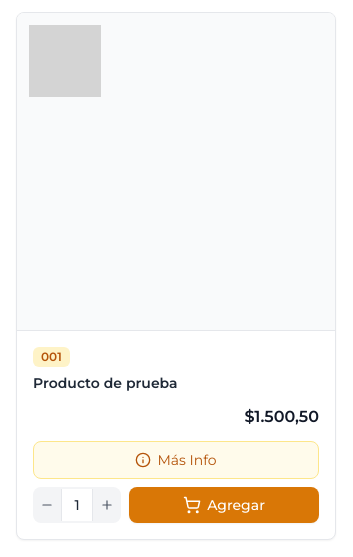
ProductCard › selector de cantidad › debería decrementar cantidad al hacer clic en -
// Primero incrementar a 2
Step 1. Click the button named "Aumentar cantidad" → {"x": 107, "y": 505}, box 93,489 -> 121,521
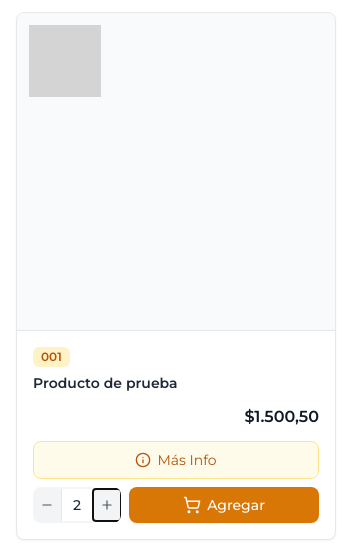
// Luego decrementar
Step 2. Click the button named "Disminuir cantidad" → {"x": 47, "y": 505}, box 33,489 -> 61,521
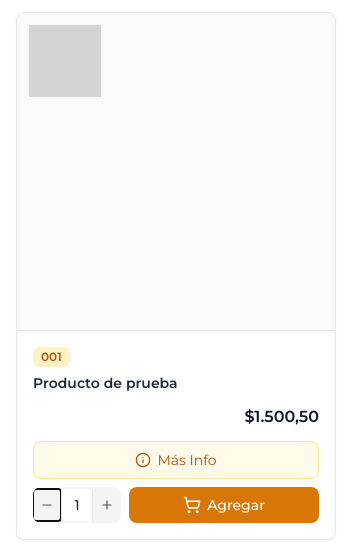
Check: the number field holds "1", box 61,489 -> 93,521
